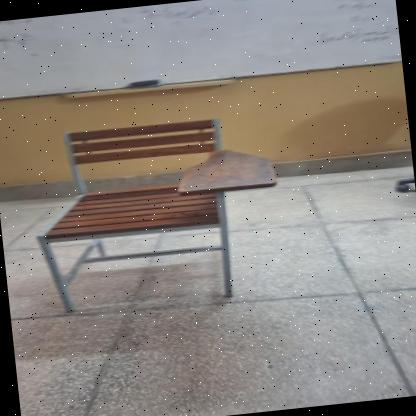chair: (22, 101, 298, 328)
